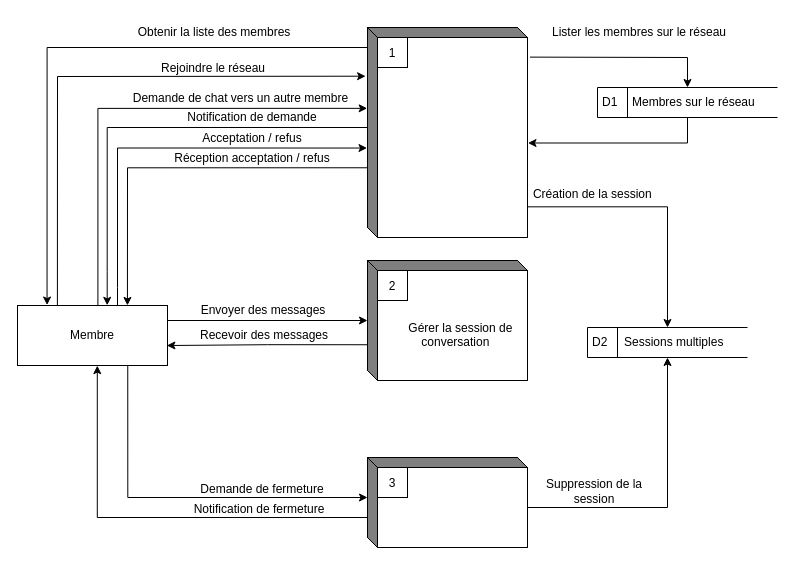
Some shapes in this 795 by 565 pixel diagram are drawn without their labels. The centre of each missing label's shape, as x and y in pixels:
"Gérer la fin de la session" goes at pixel 447 502.
"Gérer les demandes de chat" goes at pixel 447 132.
